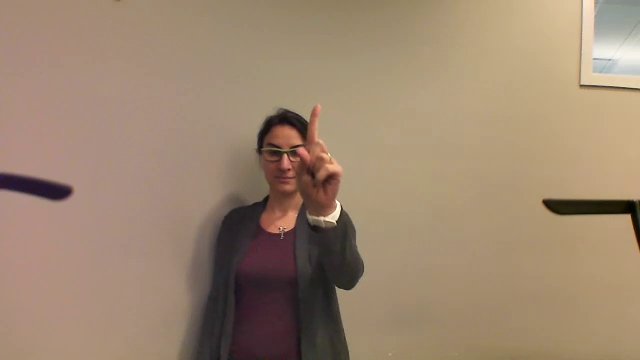up: (288, 102, 348, 209)
